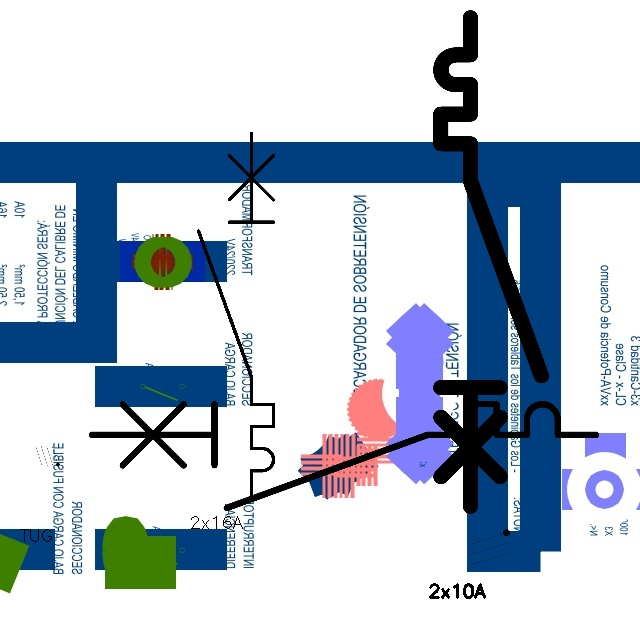interruptor_termomagnetico: (78, 391, 608, 520), (428, 5, 553, 518), (189, 124, 283, 508)
